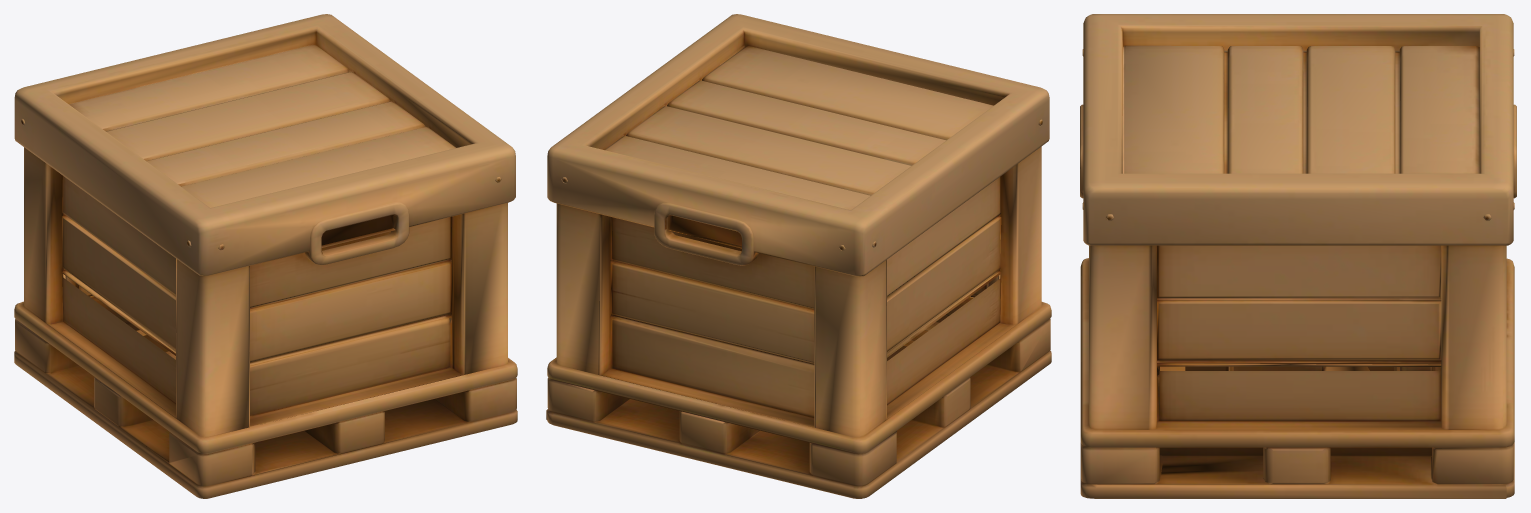
File: warehouse_crate_6e8a0927_v2.glb
3 renders of one model, left to right at view 1: azimuth 30°, elevation 25°; view 2: azimuth 150°, elevation 25°; view 3: azimuth 270°, elevation 25°, orthographic. The views are drawn at different scales.
Visible parts, largest first — view 1: material; view 2: material; view 3: material.
Boxes of the visible parts, bbox=[...] form: material: bbox=[14, 14, 517, 498]; material: bbox=[546, 14, 1051, 498]; material: bbox=[1080, 14, 1516, 498].
Size of the model in its own units: 1.83 by 1.51 by 1.9.
Materials: 1 (1 with a texture image).
